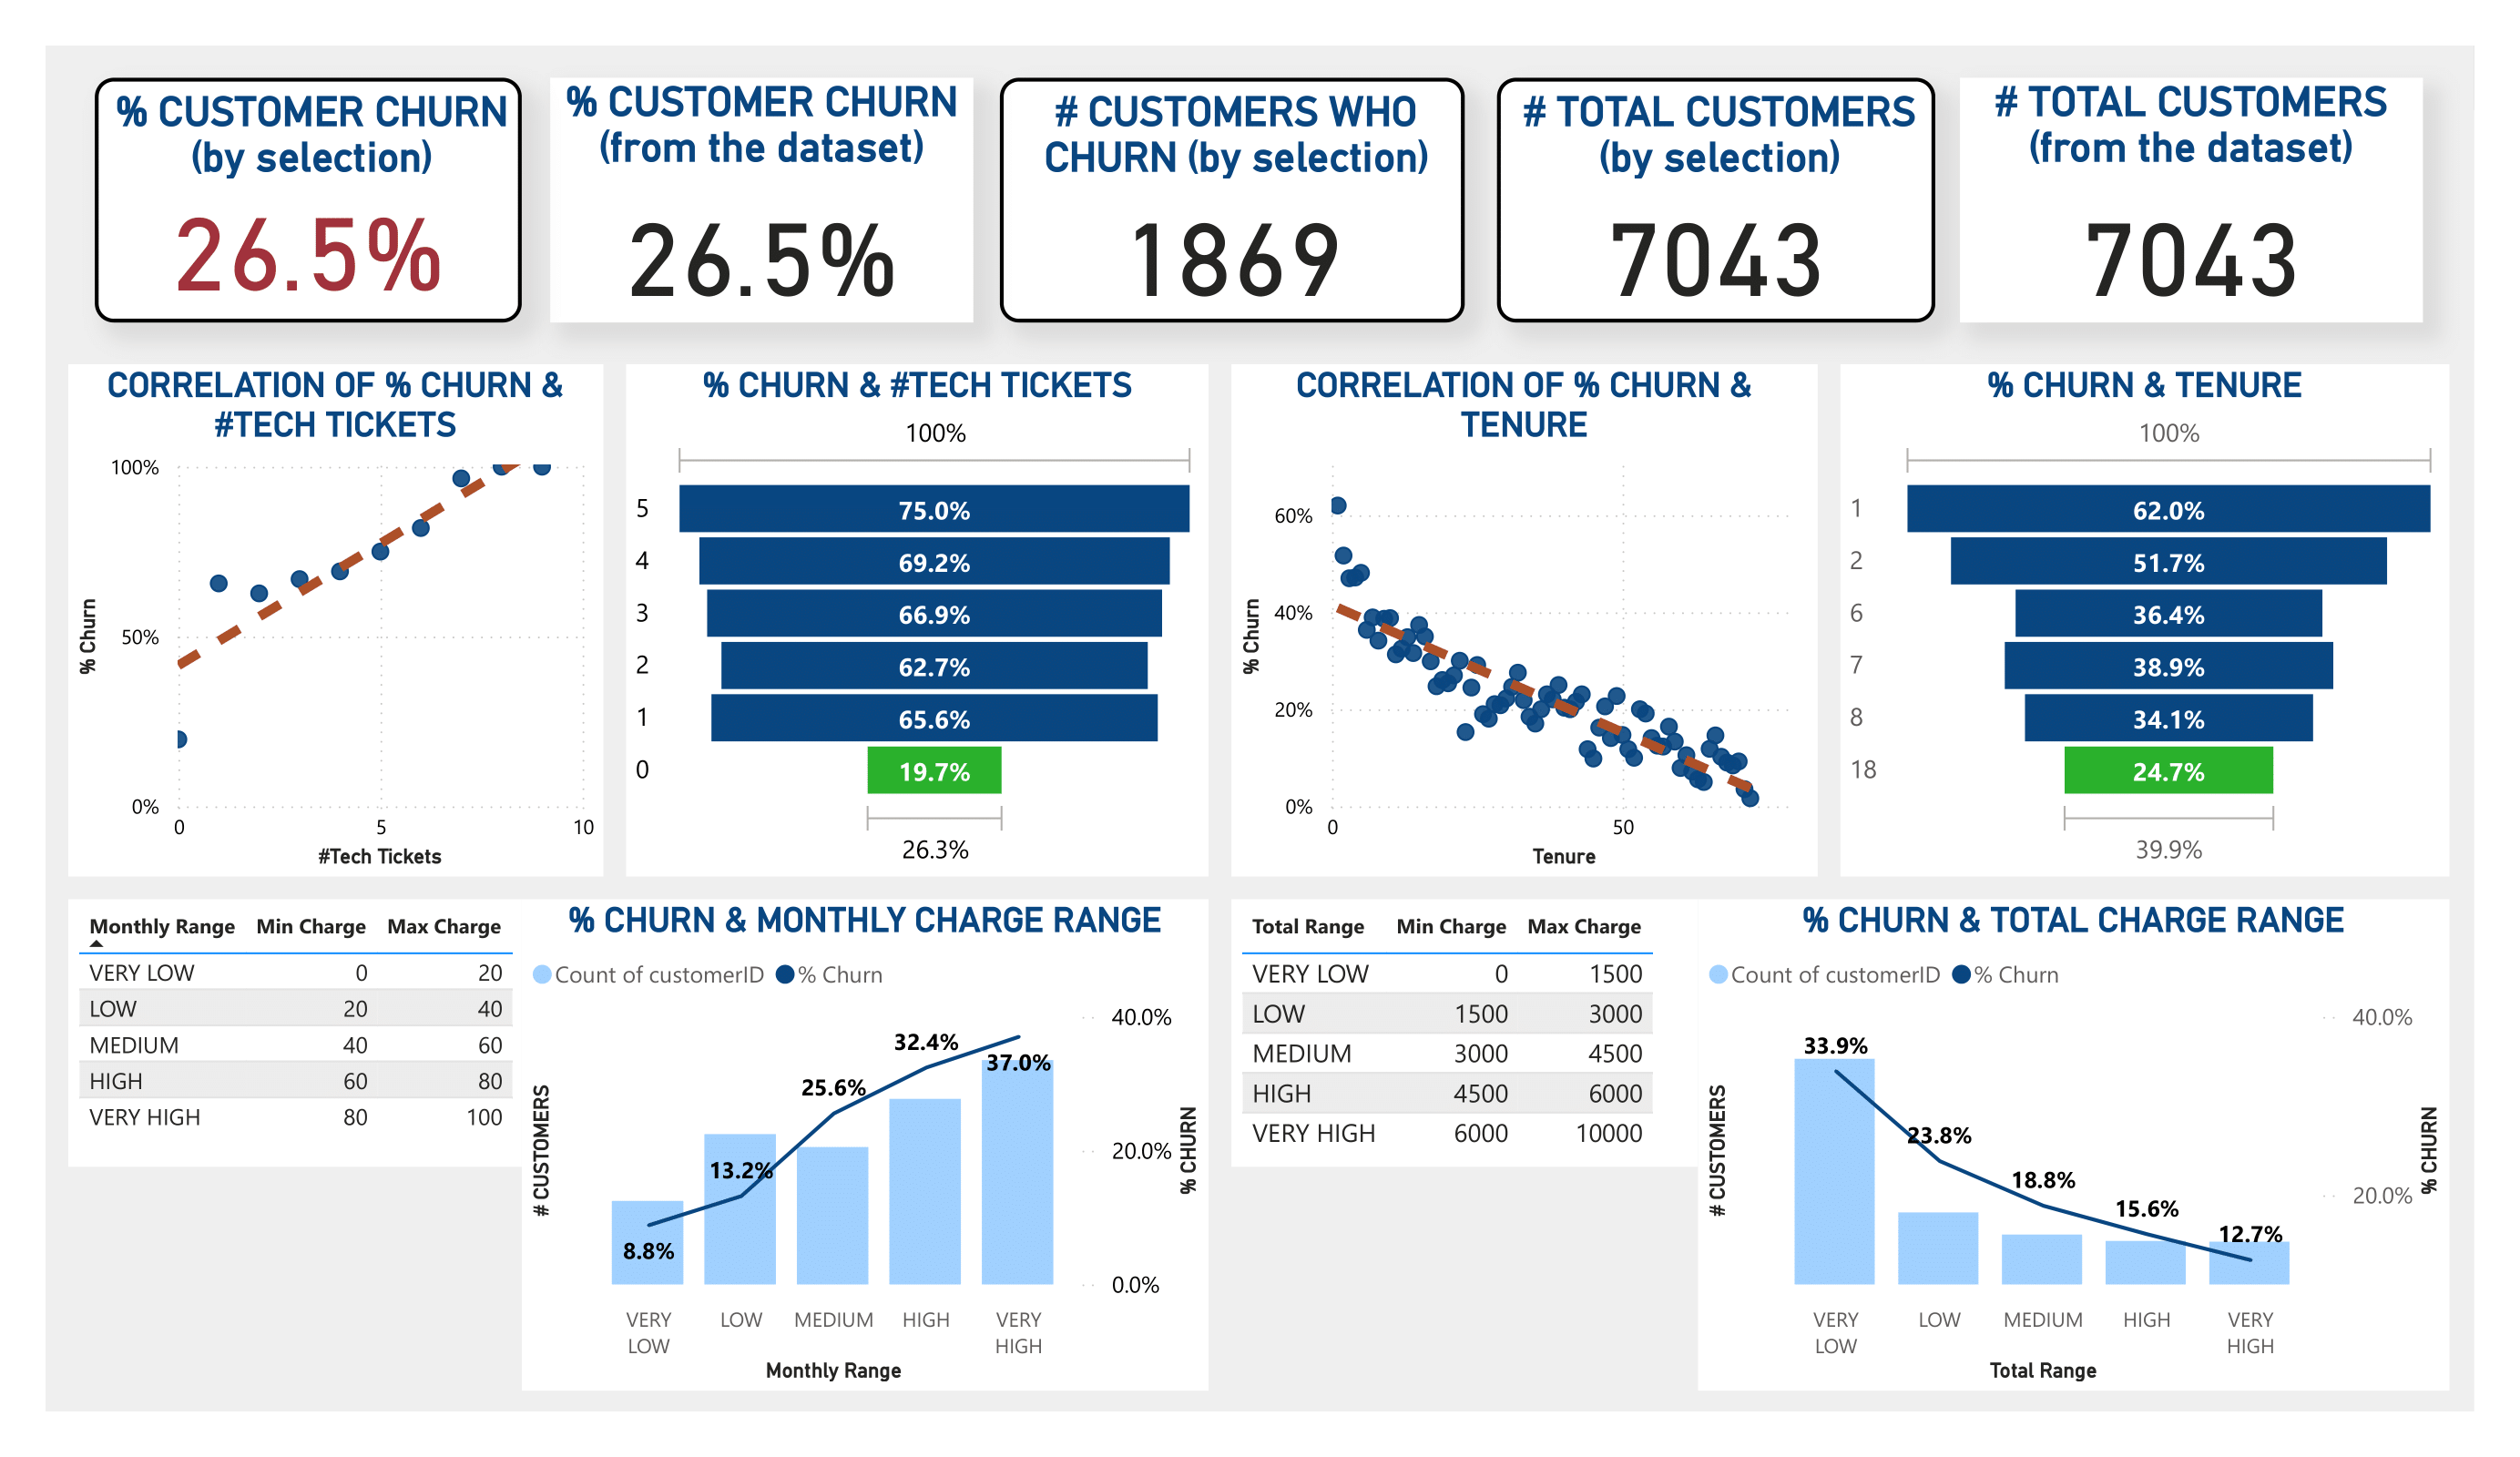

The dashboard page shown, as its layout file describes it:
{"tool":"powerbi","page":{"name":"Distribution_Quantitative vars","canvas":[1280,720],"ordinal":1},"visuals":[{"type":"card","title":"# CUSTOMERS WHO CHURN (by selection)","fields":{"Values":["Count(Churn_table.customerID)"]},"box":[502.7,17,245.7,128.5],"z":0},{"type":"card","title":"# TOTAL CUSTOMERS (by selection)","fields":{"Values":["CountNonNull(01 Churn-Dataset.customerID)"]},"box":[765.4,17,230.6,128.5],"z":1000},{"type":"card","title":"% CUSTOMER CHURN (from the dataset)","fields":{"Values":["Measure.% Churn_alldata"]},"box":[266.5,17,223,128.5],"z":2000},{"type":"card","title":"# TOTAL CUSTOMERS (from the dataset)","fields":{"Values":["Count(01 Churn-Dataset.customerID)"]},"box":[1009,17,243.8,128.5],"z":3000},{"type":"PBI_CV_7B952816_A48F_49B4_9E13_15E3BB2C0337","title":"% CUSTOMER CHURN (by selection)","fields":{"Values":["Measure.% Churn"]},"box":[26.5,17,224.9,128.5],"z":4000},{"type":"scatterChart","title":"CORRELATION OF % CHURN & TENURE","fields":{"X":["01 Churn-Dataset.tenure"],"Y":["Measure.% Churn"]},"box":[625.4,168.1,308.9,269.5],"z":5000},{"type":"scatterChart","title":"CORRELATION OF % CHURN & #TECH TICKETS","fields":{"Y":["Measure.% Churn"],"X":["01 Churn-Dataset.numTechTickets"]},"box":[12.1,168.1,281.6,269.5],"z":6000},{"type":"funnel","title":"% CHURN & #TECH TICKETS","fields":{"Y":["Measure.% Churn"],"Category":["01 Churn-Dataset.numTechTickets"]},"box":[305.9,168.1,307.4,269.5],"z":7000},{"type":"funnel","title":"% CHURN & TENURE","fields":{"Y":["Measure.% Churn"],"Category":["01 Churn-Dataset.tenure"]},"box":[946.4,168.1,321,269.5],"z":8000},{"type":"lineClusteredColumnComboChart","title":"% CHURN & MONTHLY CHARGE RANGE","fields":{"Category":["MonthlyChargeRange.Monthly Charge Range"],"Y":["Count(01 Churn-Dataset.customerID)"],"Y2":["Measure.% Churn"]},"box":[251.4,449.7,361.9,258.9],"z":9000},{"type":"lineClusteredColumnComboChart","title":"% CHURN & TOTAL CHARGE RANGE","fields":{"Y":["Count(01 Churn-Dataset.customerID)"],"Y2":["Measure.% Churn"],"Category":["TotalChargeRange.Total Charge Range"]},"box":[870.7,449.7,396.7,258.9],"z":10000},{"type":"tableEx","fields":{"Values":["MonthlyChargeRange.Monthly Charge Range","MonthlyChargeRange.Min Charge","MonthlyChargeRange.Max Charge"]},"box":[12.1,449.7,239.2,140.8],"z":11000},{"type":"tableEx","fields":{"Values":["TotalChargeRange.Total Range","TotalChargeRange.Min Charge","TotalChargeRange.Max Charge"]},"box":[625.2,450.1,245.4,140.7],"z":12000}]}

Visuals, with their boxes on the page's 1280x720 design canvas (x1, y1, x2, y2). These are canvas units, not pixel positions in the 2520x1457 screenshot, which may show the page scaled, cropped or inside an application window:
"# CUSTOMERS WHO CHURN (by selection)" card: 503 17 748 146
"# TOTAL CUSTOMERS (by selection)" card: 765 17 996 146
"% CUSTOMER CHURN (from the dataset)" card: 266 17 490 146
"# TOTAL CUSTOMERS (from the dataset)" card: 1009 17 1253 146
"% CUSTOMER CHURN (by selection)" PBI_CV_7B952816_A48F_49B4_9E13_15E3BB2C0337: 26 17 251 146
"CORRELATION OF % CHURN & TENURE" scatterChart: 625 168 934 438
"CORRELATION OF % CHURN & #TECH TICKETS" scatterChart: 12 168 294 438
"% CHURN & #TECH TICKETS" funnel: 306 168 613 438
"% CHURN & TENURE" funnel: 946 168 1267 438
"% CHURN & MONTHLY CHARGE RANGE" lineClusteredColumnComboChart: 251 450 613 709
"% CHURN & TOTAL CHARGE RANGE" lineClusteredColumnComboChart: 871 450 1267 709
tableEx - MonthlyChargeRange.Monthly Charge Range x MonthlyChargeRange.Min Charge: 12 450 251 590
tableEx - TotalChargeRange.Total Range x TotalChargeRange.Min Charge: 625 450 871 591
